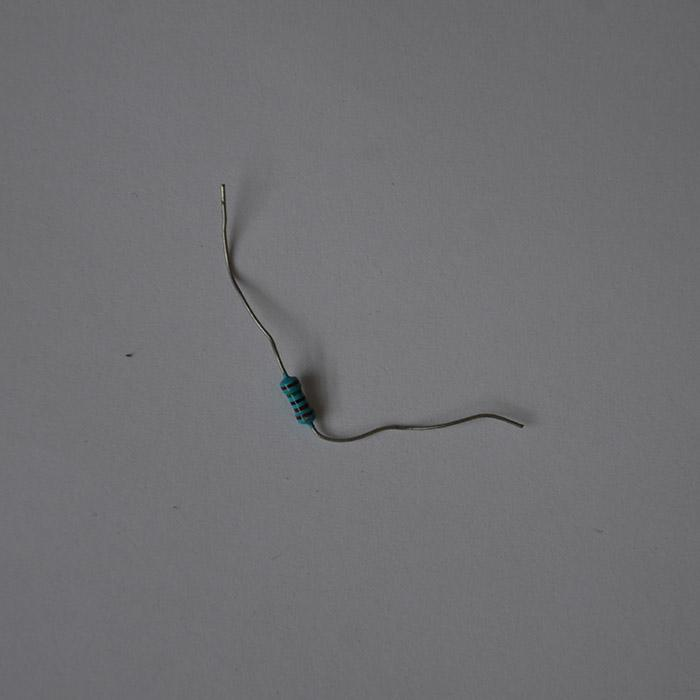resistor: (278, 372, 315, 428)
